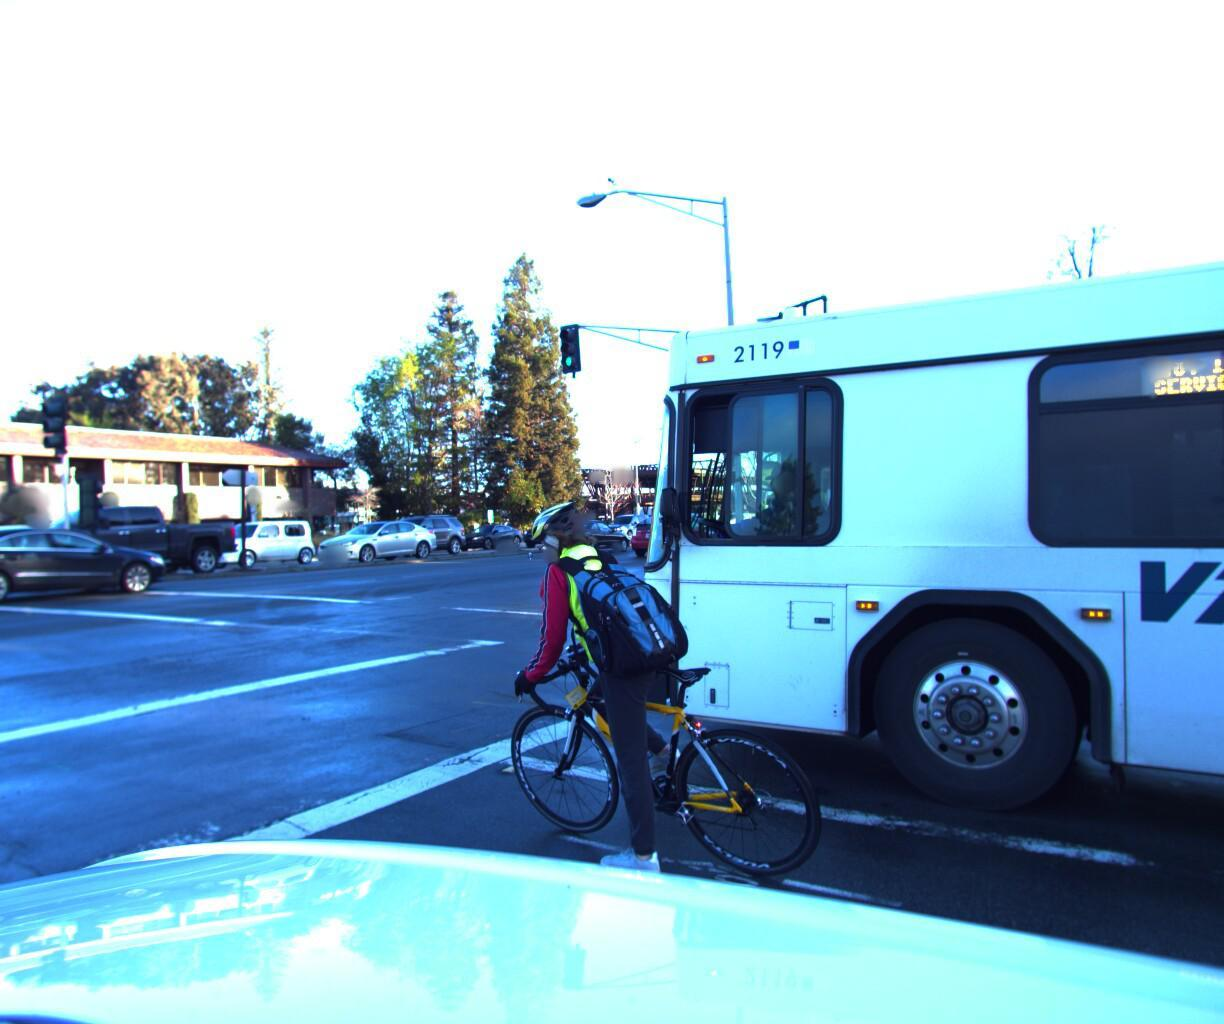bicycle: (403, 474, 832, 967)
car: (0, 504, 245, 592), (0, 521, 184, 612), (301, 515, 442, 570), (189, 513, 330, 565), (352, 510, 467, 561), (623, 510, 720, 556), (541, 513, 637, 553), (0, 527, 50, 597), (517, 511, 592, 547), (449, 523, 525, 552), (595, 511, 658, 544)
